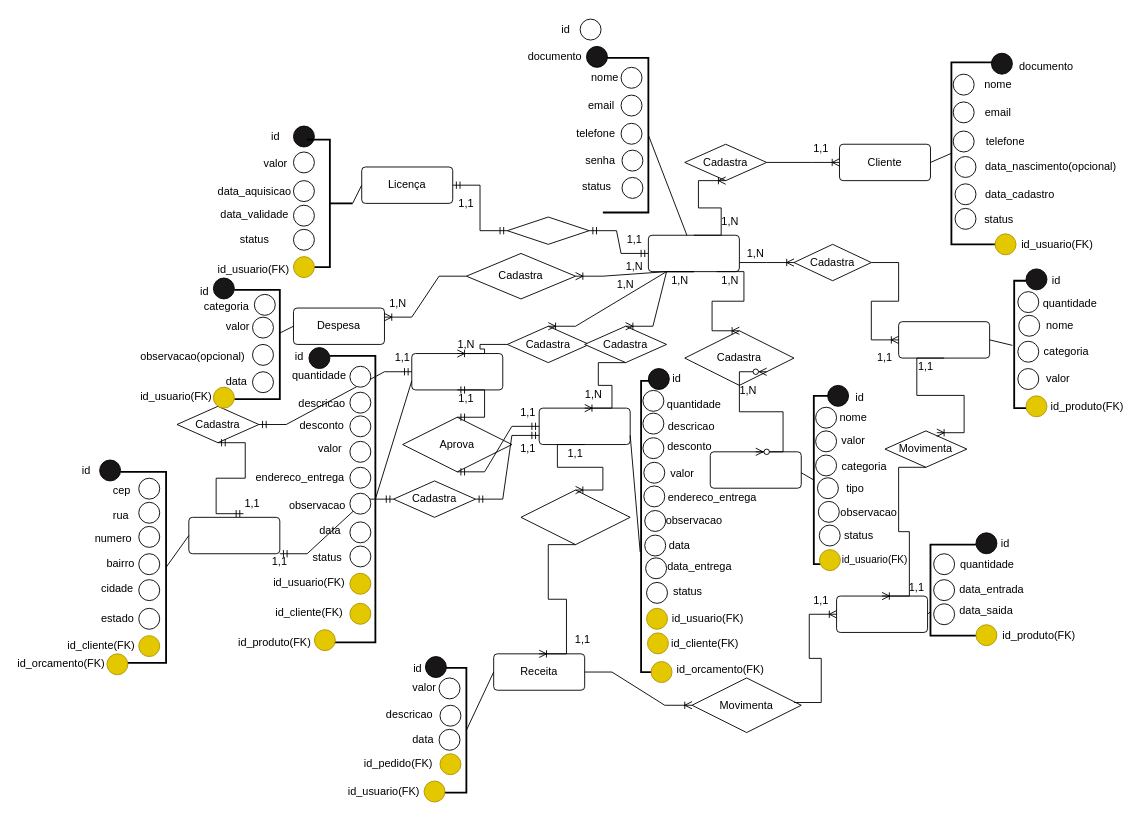
This 1139x821 diagram has some shape labels left out. Here are the shapes that lost their labels. From the top down, the centre of each, then its label:
At point 547,230: "Possui".
At point 693,253: "Usuário".
At point 944,339: "Estoque".
At point 457,371: "Orçamento".
At point 584,426: "Pedido".
At point 755,469: "Produto".
At point 234,535: "Endereço_entrega".
At point 575,517: "Pagar".
At point 882,613: "mov_estoque".
